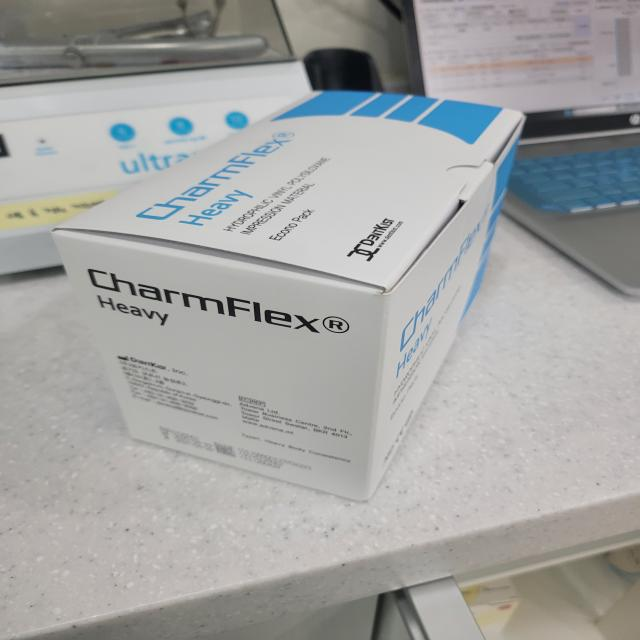impression: (55, 62, 570, 525)
